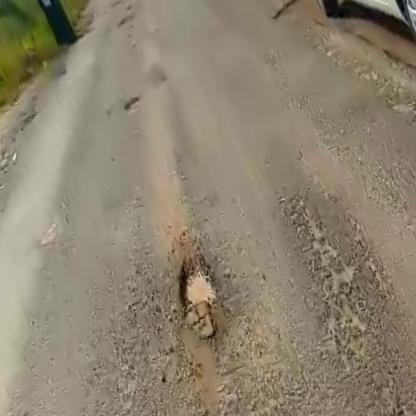pothole: (163, 249, 230, 333)
